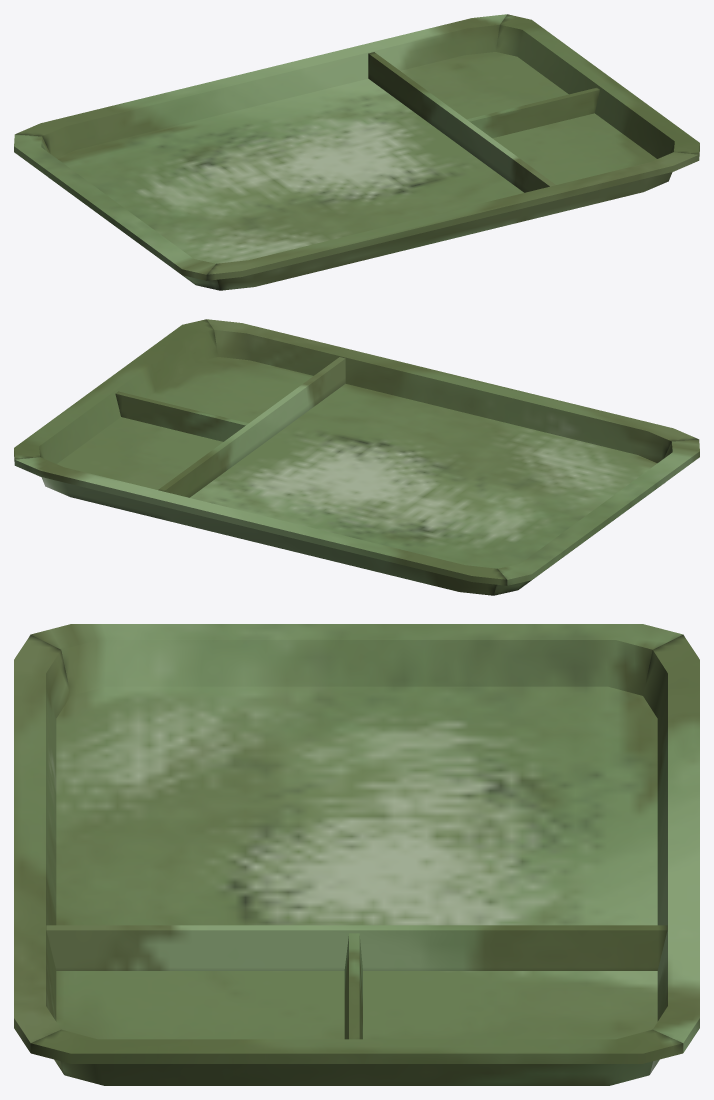
The model's file is FoodTray_Asset.fbx.
3 views of the same model, one above another, from view 1: azimuth 30°, elevation 25°; view 2: azimuth 150°, elevation 25°; view 3: azimuth 270°, elevation 25° (orthographic). The views are drawn at different scales.
Visible parts, largest first — view 1: FoodTray; view 2: FoodTray; view 3: FoodTray.
Part boxes in pixels (<box>): FoodTray: <box>14,14,699,290</box>; FoodTray: <box>14,319,699,595</box>; FoodTray: <box>14,624,699,1085</box>.
Bounding box in the file's own units: 36.06 × 24.33 × 1.93.
Materials: 1 (1 with a texture image).
